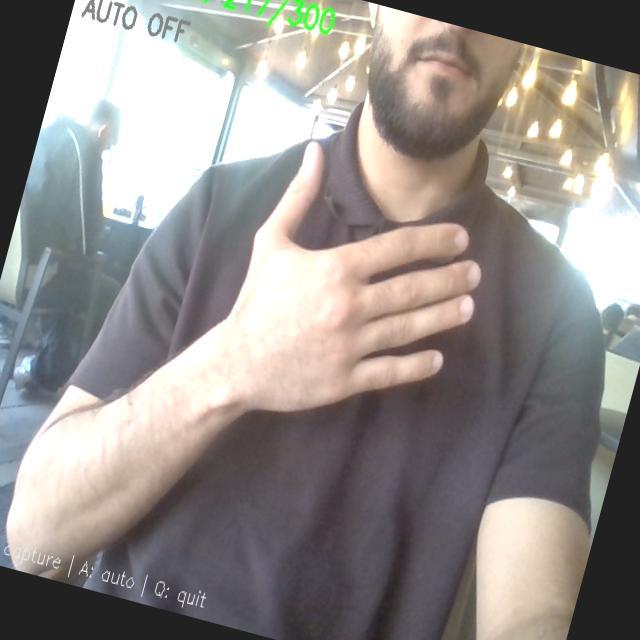Hand: (221, 143, 480, 411)
